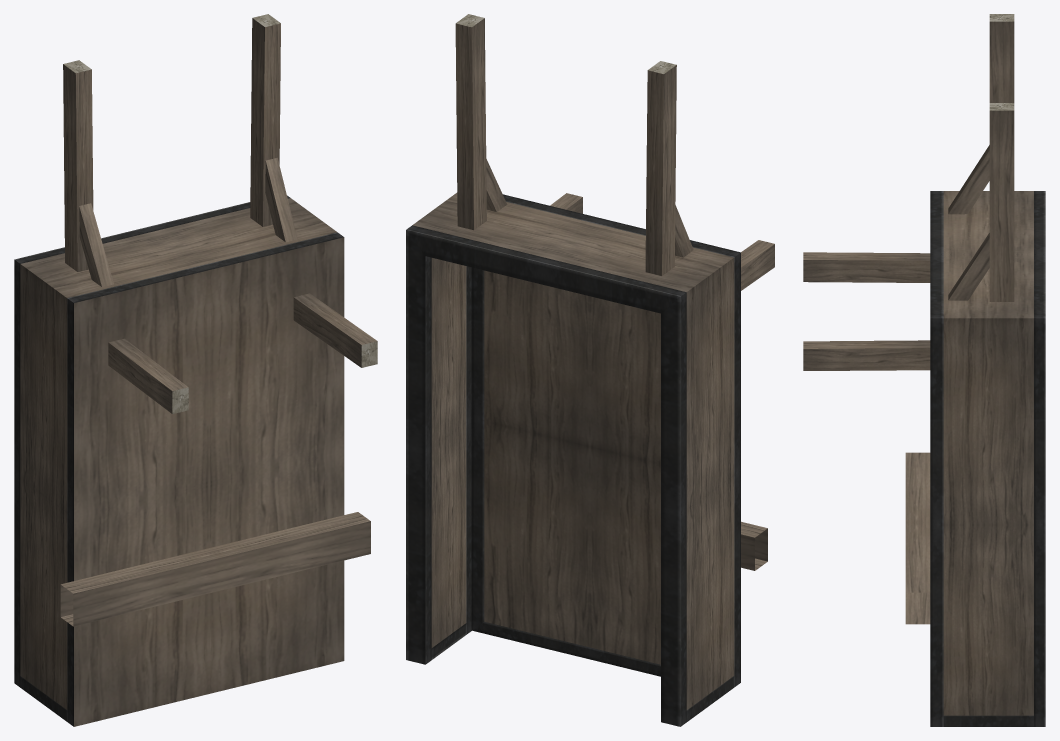
File: Cart_A.fbx
3 views of the same model, side by side, from view 1: azimuth 30°, elevation 25°; view 2: azimuth 150°, elevation 25°; view 3: azimuth 270°, elevation 25° (orthographic). The views are drawn at different scales.
Visible parts, largest first — view 1: Cart_A; view 2: Cart_A; view 3: Cart_A.
Boxes of the visible parts, bbox=[...] form: Cart_A: bbox=[14, 14, 377, 726]; Cart_A: bbox=[406, 14, 774, 726]; Cart_A: bbox=[803, 14, 1045, 726].
Size of the model in its own units: 2.69 by 5.38 by 1.96.
